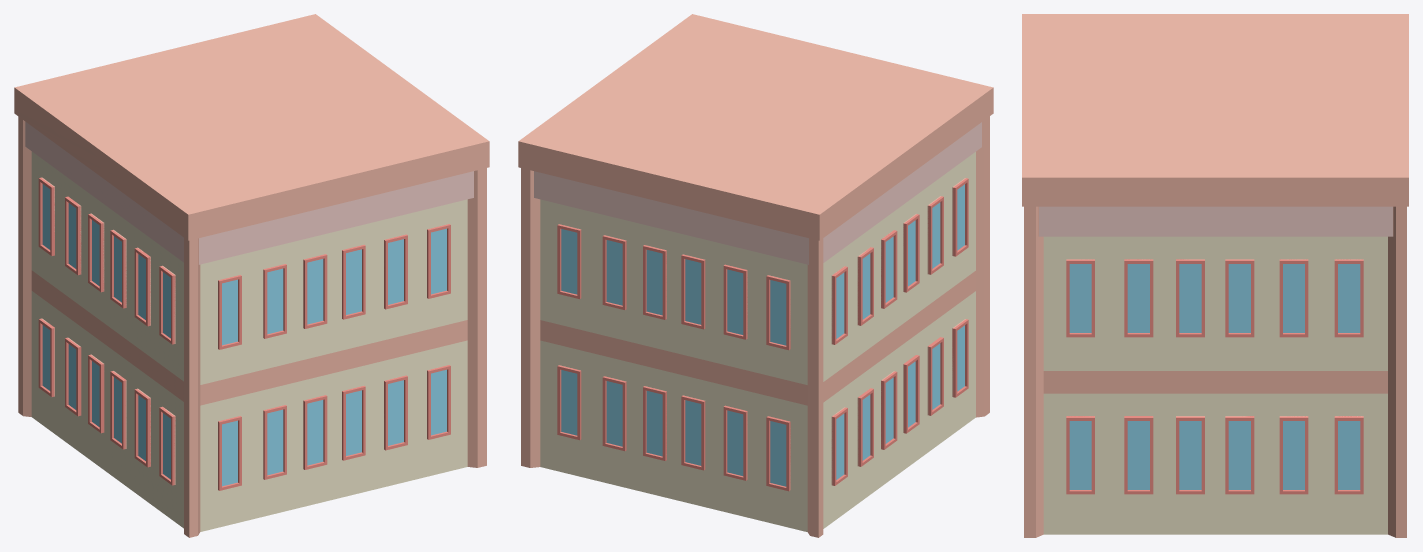
Rendered from ThrowAFitBuilding.fbx.
3 views of the same model, side by side, from view 1: azimuth 30°, elevation 25°; view 2: azimuth 150°, elevation 25°; view 3: azimuth 270°, elevation 25° (orthographic). The views are drawn at different scales.
Parts seen in each view (by area): view 1: Cube; view 2: Cube; view 3: Cube.
Part boxes in pixels (<box>): Cube: <box>14,14,489,537</box>; Cube: <box>518,14,993,537</box>; Cube: <box>1022,14,1408,537</box>.
Size of the model in its own units: 211 by 217 by 211.
